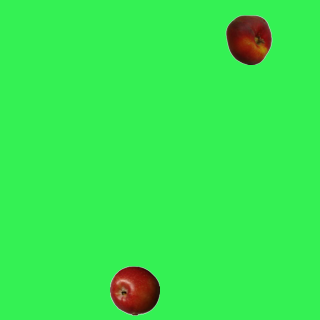Apple Braeburn: (109, 265, 159, 315)
Nectarine Flat: (223, 14, 273, 64)
